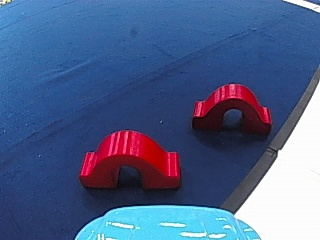bridge: (77, 129, 181, 190), (188, 79, 277, 137)
